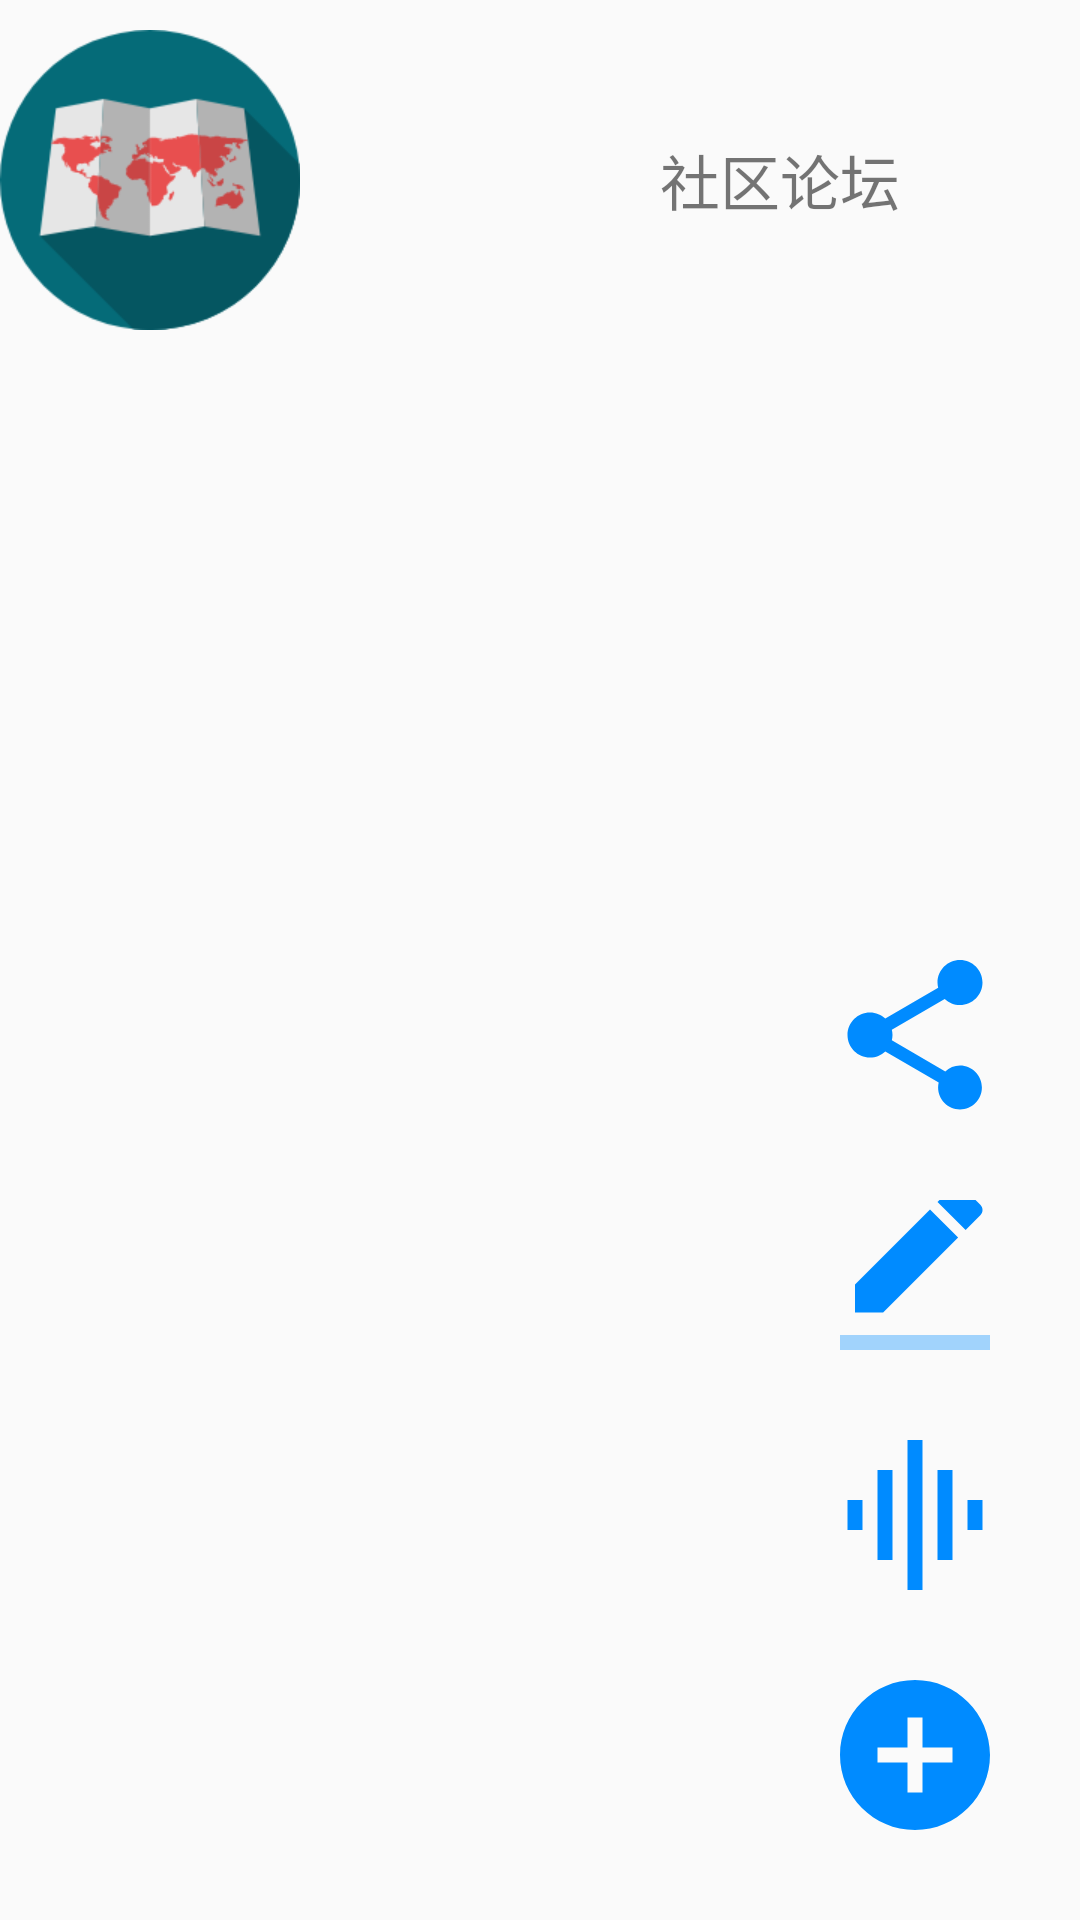

Where icons sit on this 1080x1920 app screen, as (x1, y1, x2, y2):
add circle: (840, 1680, 990, 1830)
graphic eq: (847, 1440, 983, 1590)
share: (847, 960, 983, 1110)
